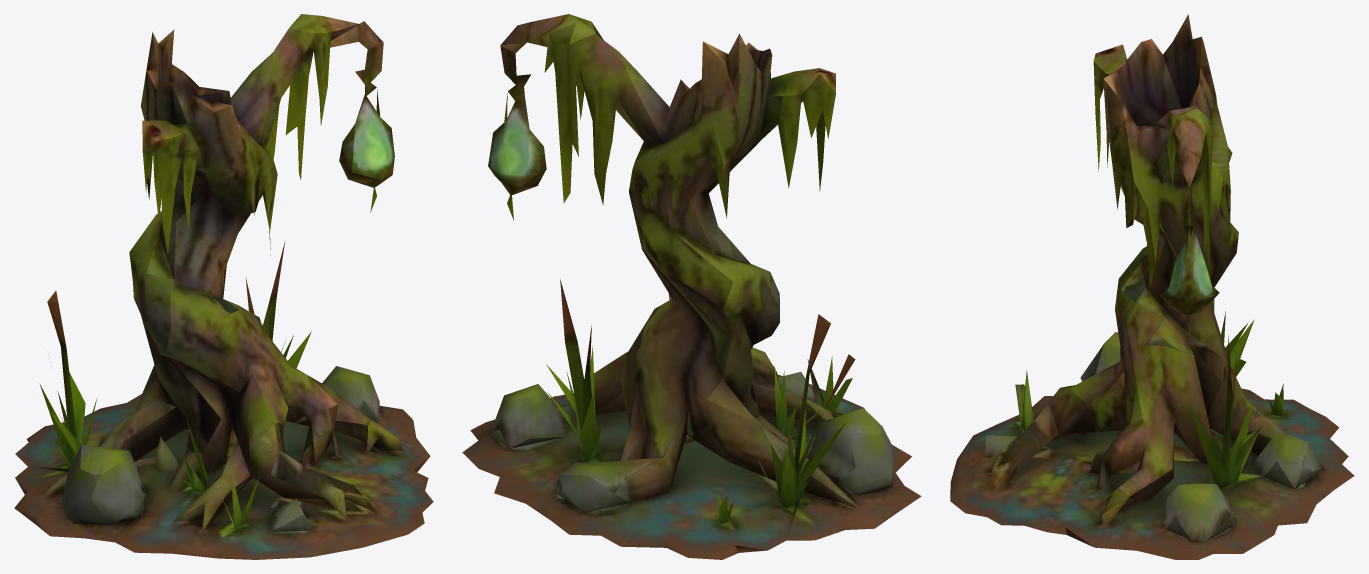
Rendered from d_marais_repere.glb.
The picture shows the model from 3 angles, left to right: view 1: azimuth 30°, elevation 25°; view 2: azimuth 150°, elevation 25°; view 3: azimuth 270°, elevation 25°; orthographic projection. The views are drawn at different scales.
Parts seen in each view (by area): view 1: geometry_0; view 2: geometry_0; view 3: geometry_0.
Boxes of the visible parts, box(x1,y1,x2,y2) form: geometry_0: box(14, 14, 433, 559); geometry_0: box(462, 14, 921, 559); geometry_0: box(950, 14, 1354, 559).
Size of the model in its own units: 0.9279 by 0.9999 by 0.8559.
Materials: 1 (1 with a texture image).
